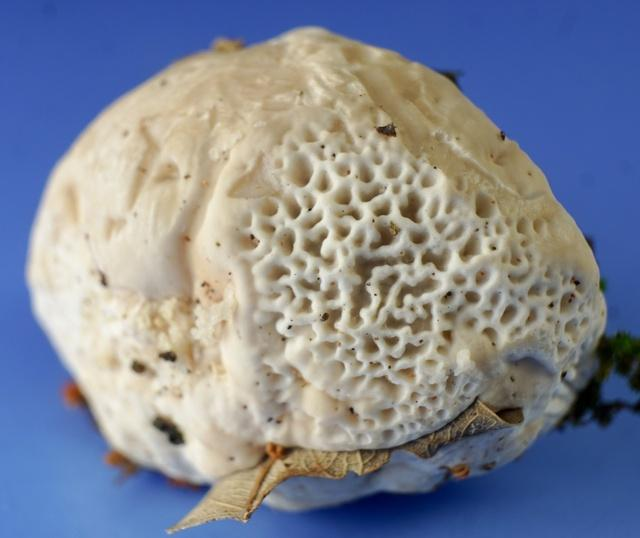poisonous_mushroom: (24, 24, 609, 532)
